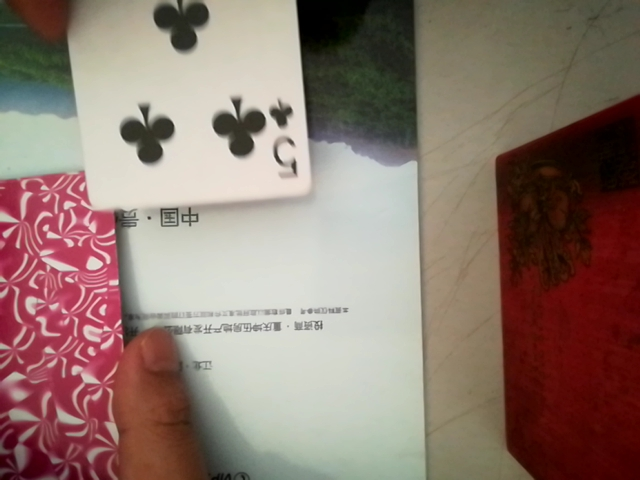mh 5: (48, 1, 307, 217)
